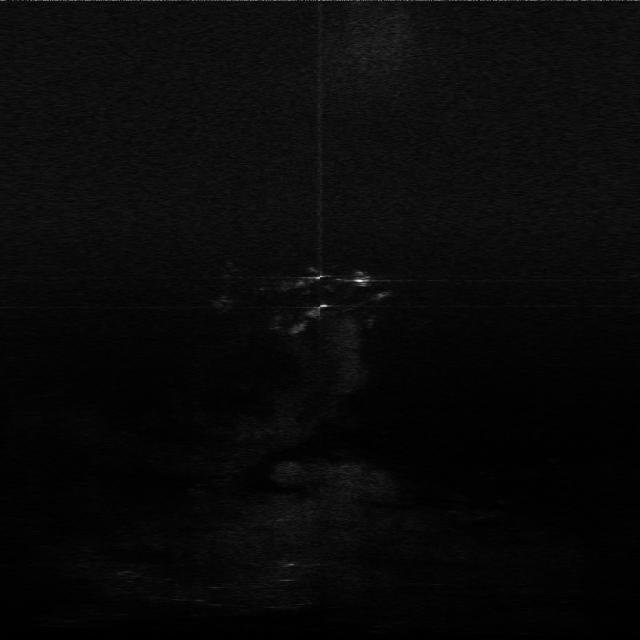rov: (348, 269, 376, 290)
